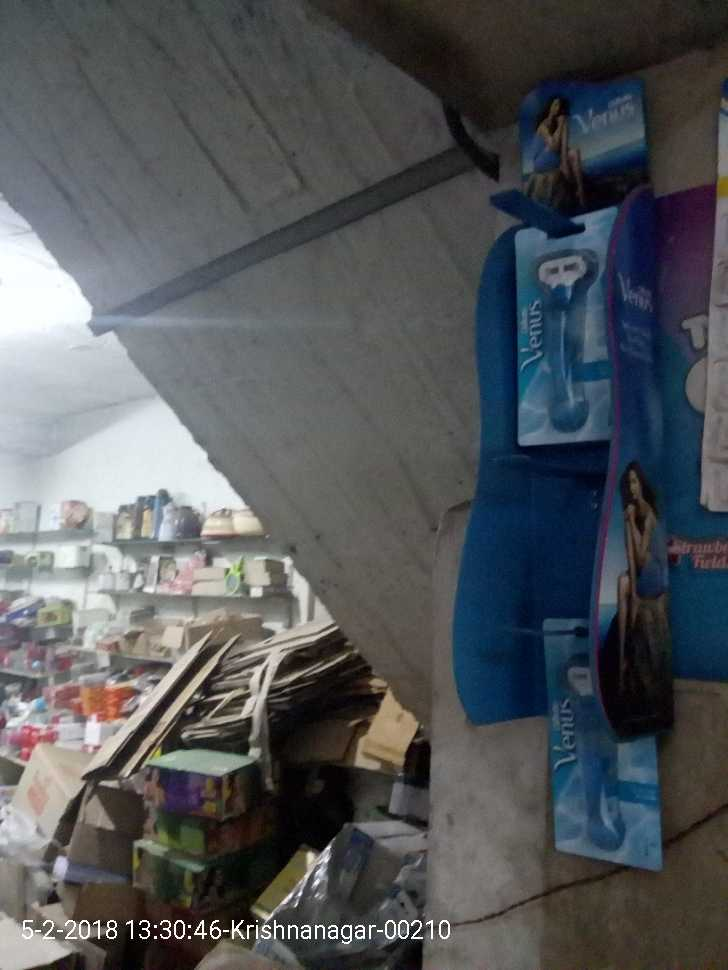venus: (536, 618, 672, 871), (516, 225, 611, 438)
